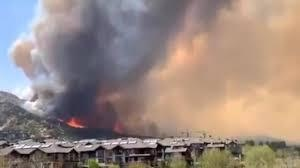fire: (66, 117, 85, 128)
